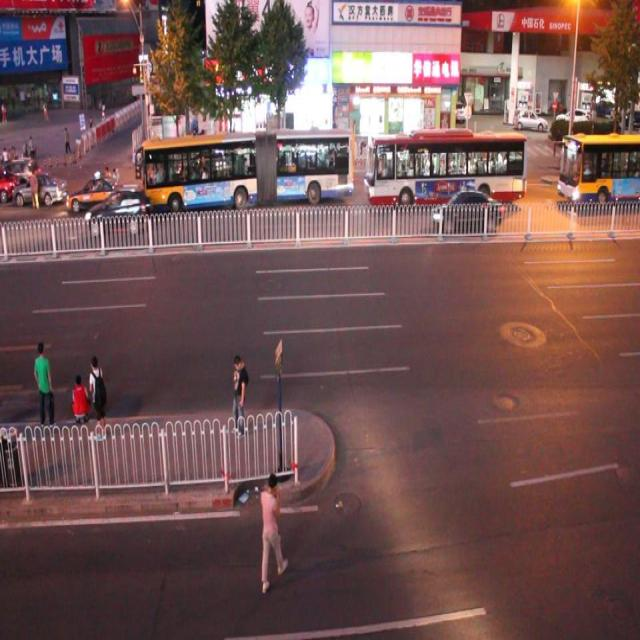car: (432, 187, 501, 230), (85, 189, 146, 235), (188, 148, 233, 193), (67, 174, 120, 211), (277, 152, 327, 190), (15, 172, 67, 206), (0, 166, 18, 203)
van: (138, 128, 354, 204), (364, 128, 525, 205), (556, 126, 640, 208)
